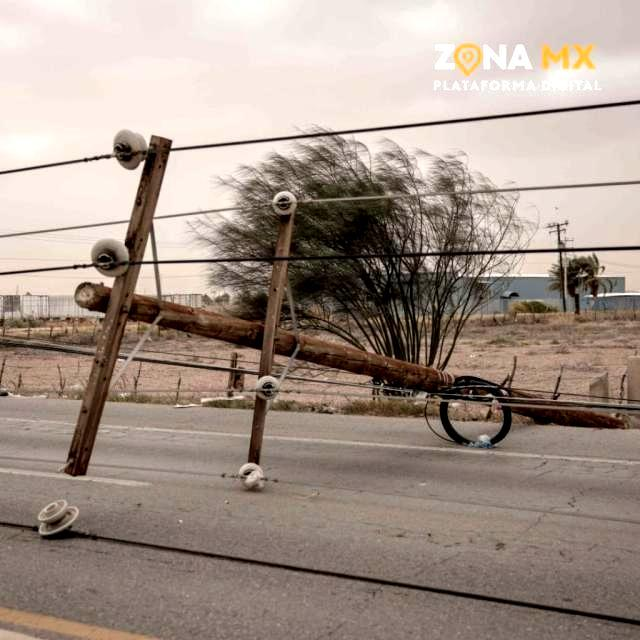Broken Pole: (61, 128, 625, 490)
